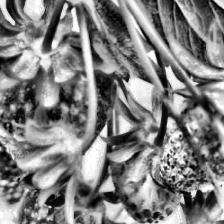Powdery Mildew Fruit: (0, 20, 91, 176), (158, 67, 224, 193), (0, 57, 28, 205), (15, 176, 100, 224)
